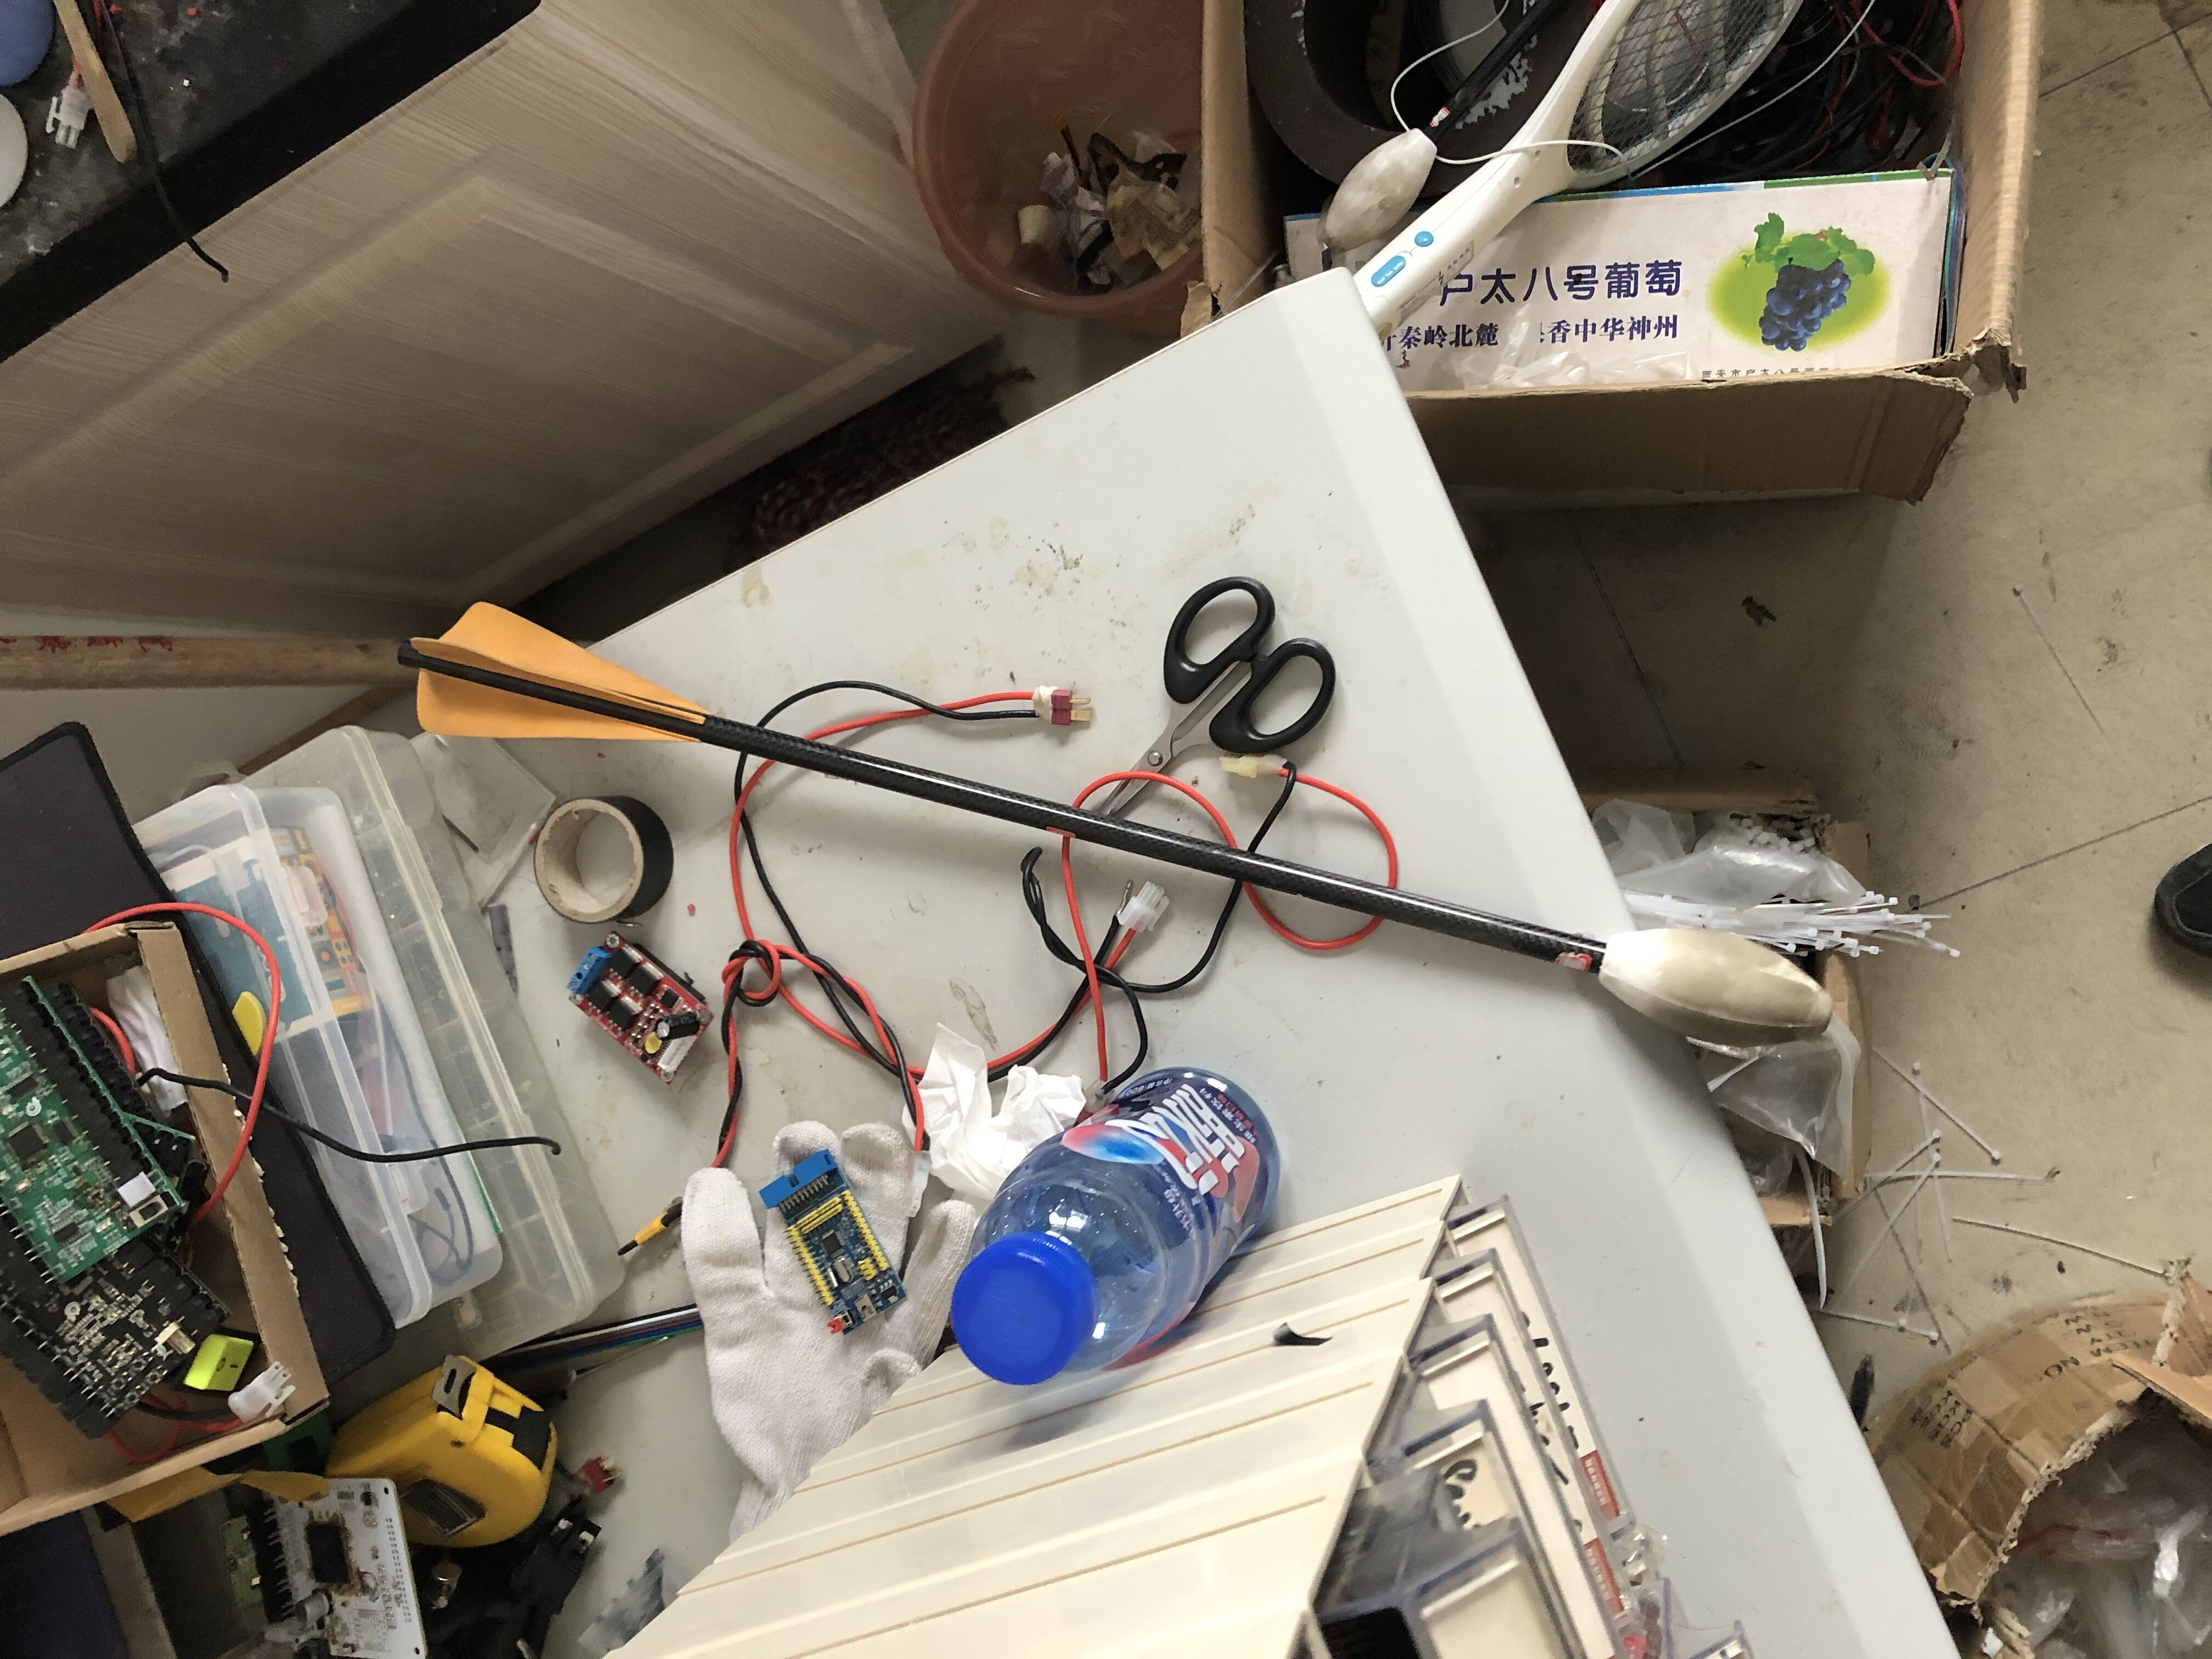arrow: (399, 601, 1831, 1044)
arrowFront: (1592, 924, 1827, 1042)
